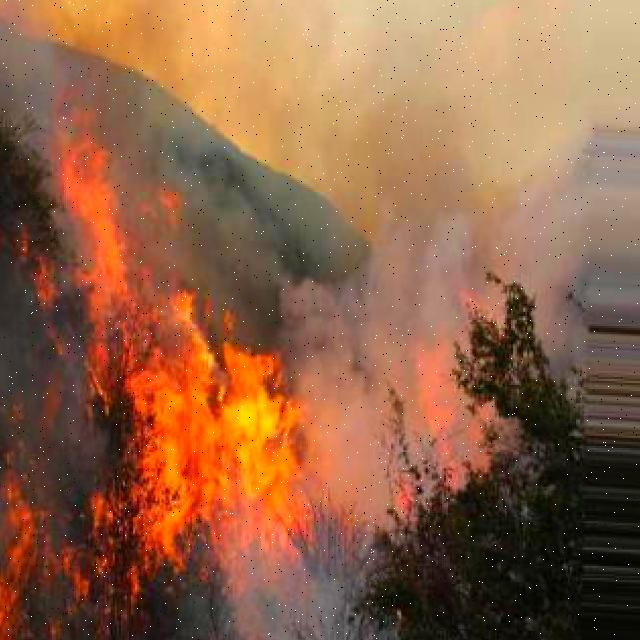fire: (121, 330, 291, 550), (86, 139, 121, 420), (121, 552, 220, 624), (121, 251, 198, 328), (54, 141, 84, 267), (21, 222, 54, 306)
smoke: (270, 200, 472, 491), (222, 547, 366, 640)
